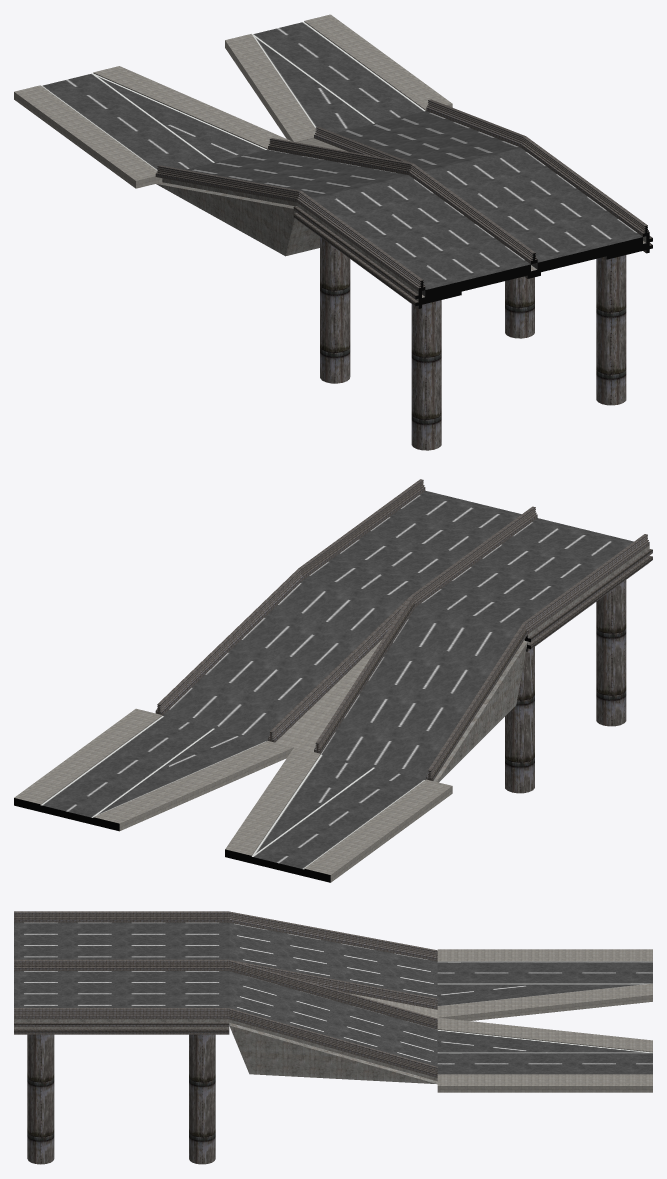
Rendered from HighwayRamp_high.fbx.
3 views of the same model, one above another, from view 1: azimuth 30°, elevation 25°; view 2: azimuth 150°, elevation 25°; view 3: azimuth 270°, elevation 25° (orthographic). The views are drawn at different scales.
Visible parts, largest first — view 1: HWmaterialD150, HWmaterialA150, HWmaterialE150, HWmaterialF150, HWmaterialC150, HWmaterialB150; view 2: HWmaterialD150, HWmaterialA150, HWmaterialE150, HWmaterialF150, HWmaterialC150, HWmaterialB150; view 3: HWmaterialD150, HWmaterialA150, HWmaterialE150, HWmaterialF150, HWmaterialC150.
Part boxes in pixels (x1,y1,x2,y2): HWmaterialD150: (185, 111, 642, 289); HWmaterialA150: (155, 99, 652, 450); HWmaterialE150: (42, 22, 537, 296); HWmaterialF150: (14, 14, 452, 188); HWmaterialC150: (156, 178, 646, 301); HWmaterialB150: (415, 225, 652, 308); HWmaterialD150: (162, 490, 633, 779); HWmaterialA150: (155, 479, 652, 793); HWmaterialE150: (41, 716, 424, 869); HWmaterialF150: (14, 640, 452, 882); HWmaterialC150: (433, 545, 649, 782); HWmaterialB150: (14, 635, 530, 882); HWmaterialD150: (14, 922, 437, 1066); HWmaterialA150: (14, 911, 437, 1164); HWmaterialE150: (437, 961, 652, 1074); HWmaterialF150: (349, 949, 652, 1092); HWmaterialC150: (14, 1019, 437, 1084).
Size of the model in its own units: 76.8 by 41.6 by 152.
